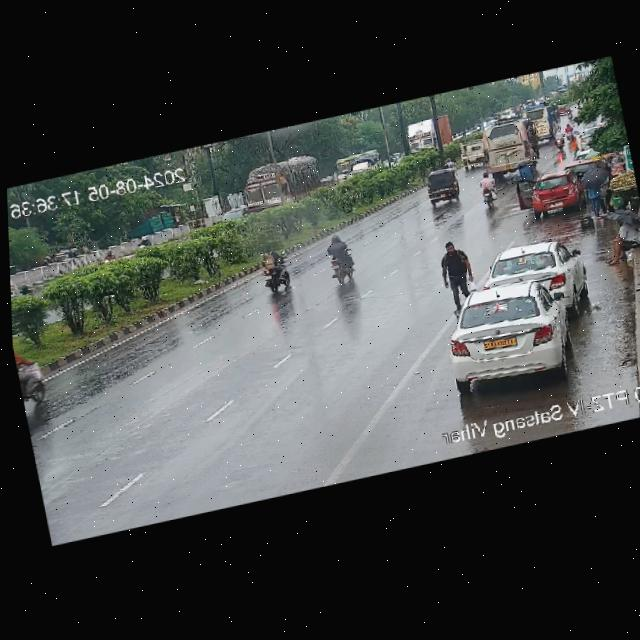bus: (466, 116, 543, 180)
car: (435, 281, 574, 396), (474, 234, 586, 311), (528, 171, 585, 216), (418, 167, 462, 210), (336, 151, 384, 181), (511, 161, 543, 204)
motorcycle: (250, 247, 301, 300), (319, 230, 368, 285), (13, 340, 45, 416), (474, 170, 502, 206), (548, 125, 568, 151), (131, 236, 155, 255)
person: (438, 236, 478, 303), (597, 214, 640, 265)
truck: (227, 151, 324, 220), (403, 112, 456, 160), (519, 103, 560, 143), (102, 246, 121, 267)
